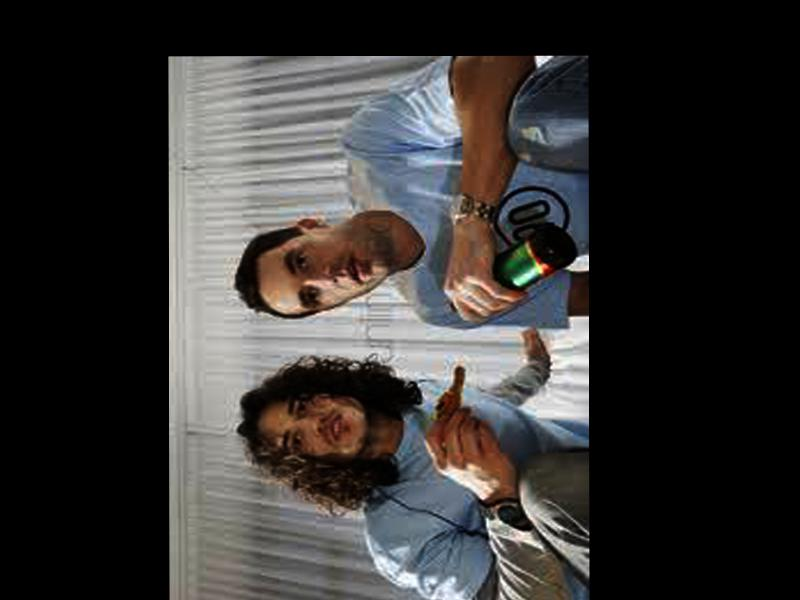Beer: (449, 222, 577, 312)
